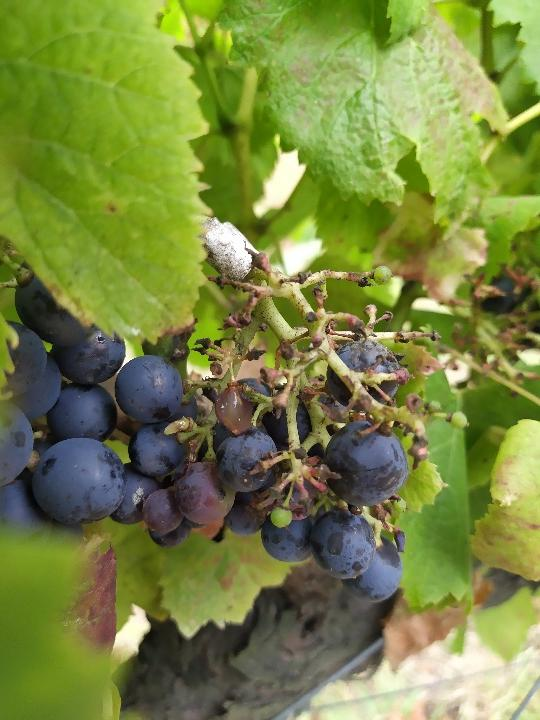grape: (144, 264, 470, 603)
